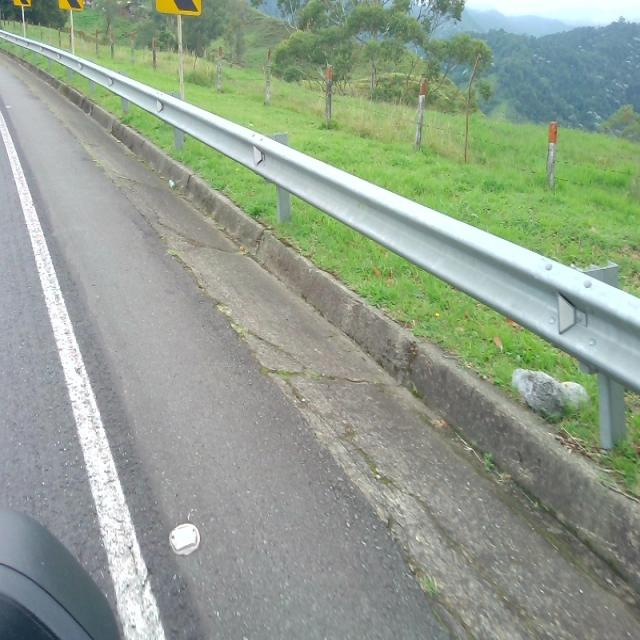DITCH: (2, 12, 638, 638), (1, 46, 638, 638)
